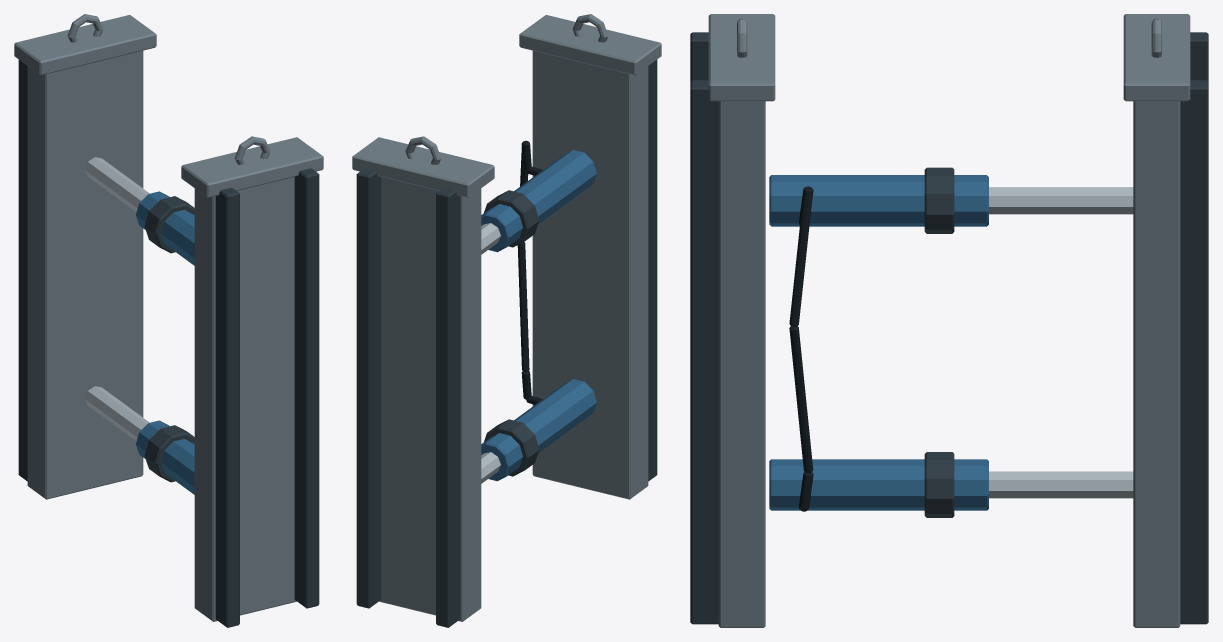
The model's file is b07_hydraulic_trench_shore_assembly.glb.
The picture shows the model from 3 angles, left to right: view 1: azimuth 30°, elevation 25°; view 2: azimuth 150°, elevation 25°; view 3: azimuth 270°, elevation 25°; orthographic projection. The views are drawn at different scales.
Parts seen in each view (by area): view 1: b07_hydraulic_trench_shore_assembly; view 2: b07_hydraulic_trench_shore_assembly; view 3: b07_hydraulic_trench_shore_assembly.
Part boxes in pixels (<box>): b07_hydraulic_trench_shore_assembly: <box>14,14,323,627</box>; b07_hydraulic_trench_shore_assembly: <box>352,14,661,627</box>; b07_hydraulic_trench_shore_assembly: <box>690,14,1208,627</box>.
Size of the model in its own units: 0.68 by 2.59 by 2.1.
